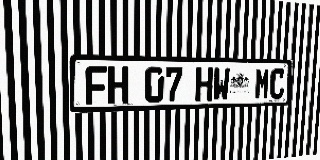0: (145, 67, 164, 103)
7: (164, 67, 183, 102)
C: (269, 68, 285, 99)
F: (85, 66, 107, 105)
H: (108, 66, 129, 104), (195, 67, 213, 102)
M: (254, 68, 271, 100)
W: (213, 67, 230, 101)
